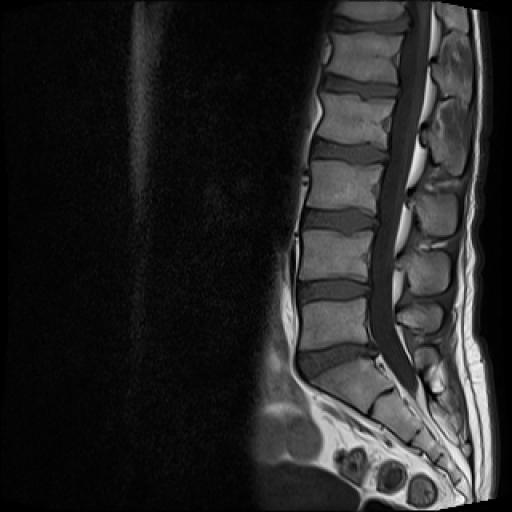L1: (326, 32, 402, 84)
L2: (318, 94, 394, 150)
L3: (308, 162, 380, 212)
L4: (300, 229, 372, 282)
L5: (299, 298, 368, 350)
S1: (311, 358, 394, 414)
